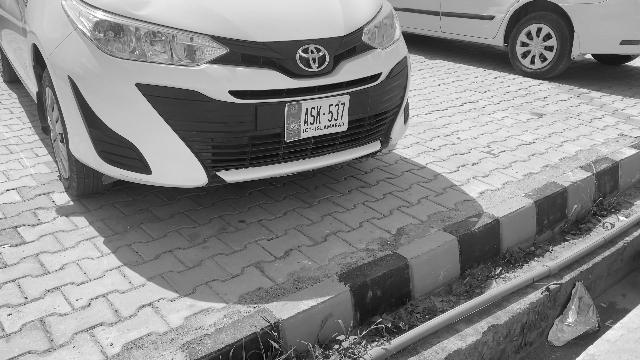Number: (303, 99, 347, 128)
